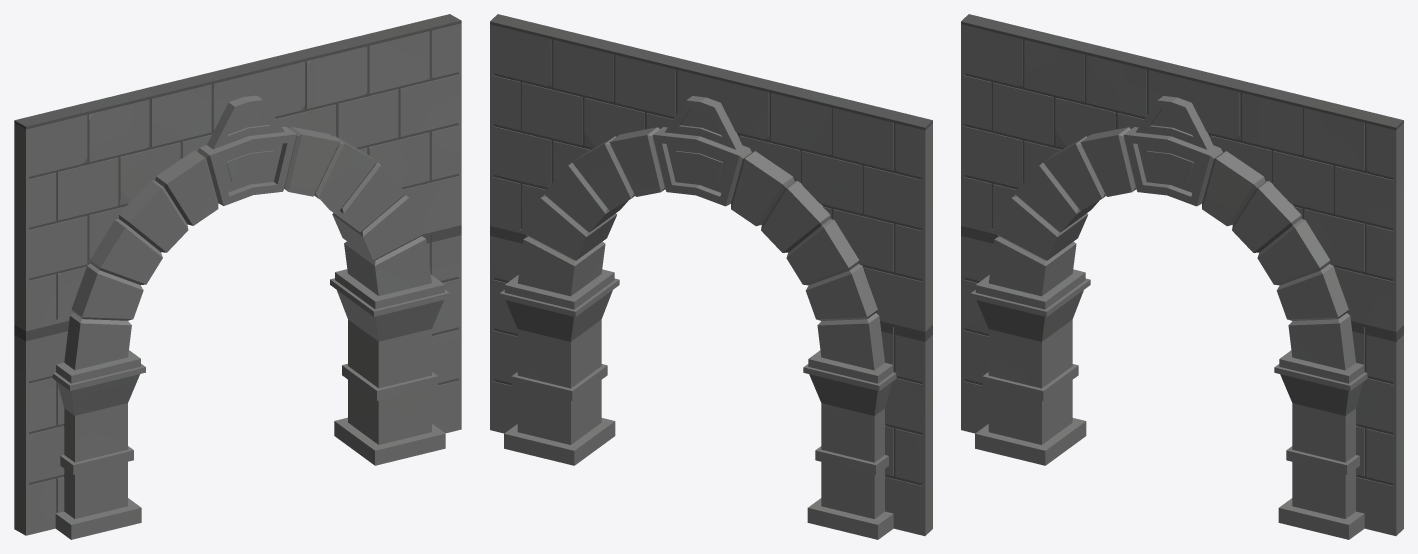
Rendered from Big_Arch_Wall.fbx.
The picture shows the model from 3 angles, left to right: view 1: azimuth 30°, elevation 25°; view 2: azimuth 150°, elevation 25°; view 3: azimuth 330°, elevation 25°; orthographic projection.
Parts seen in each view (by area): view 1: Big Arch Wall; view 2: Big Arch Wall; view 3: Big Arch Wall.
Part boxes in pixels (x1,y1,x2,y2): Big Arch Wall: (14, 14, 461, 539); Big Arch Wall: (490, 14, 932, 539); Big Arch Wall: (961, 14, 1403, 539).
Bounding box in the file's own units: 560 × 500 × 97.56.
